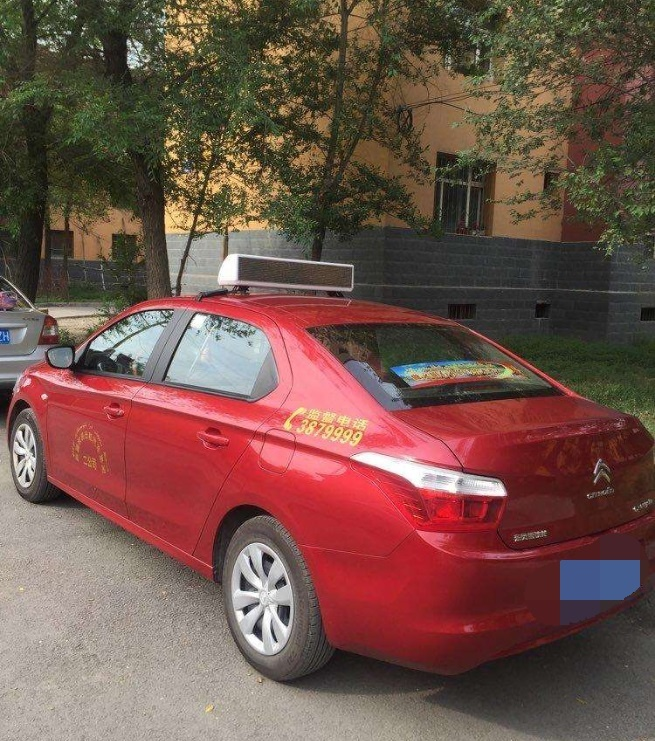taxi: (19, 242, 654, 700)
